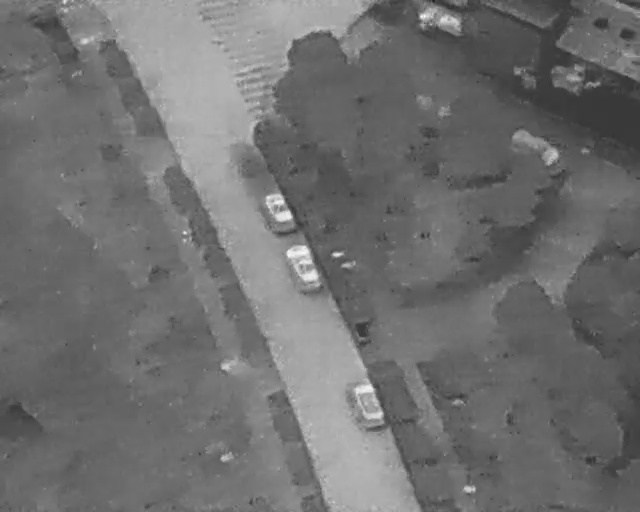Car: (345, 373, 389, 433), (285, 239, 327, 294), (258, 187, 300, 238)
